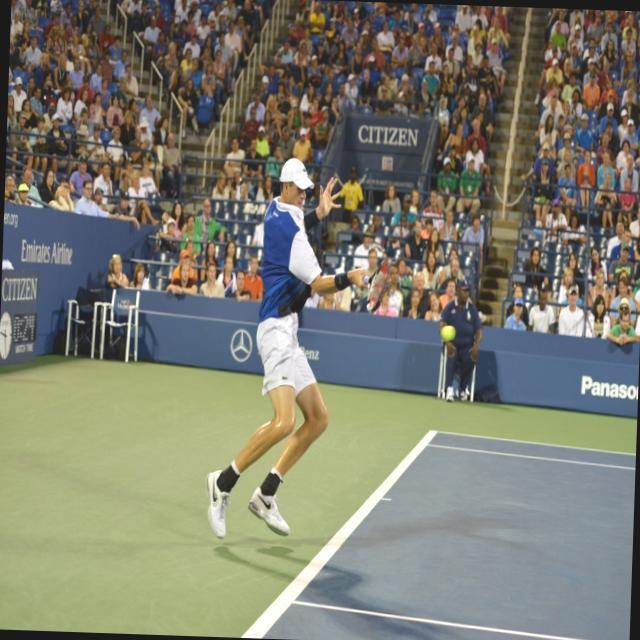Tennis Ball: (442, 328, 455, 343)
